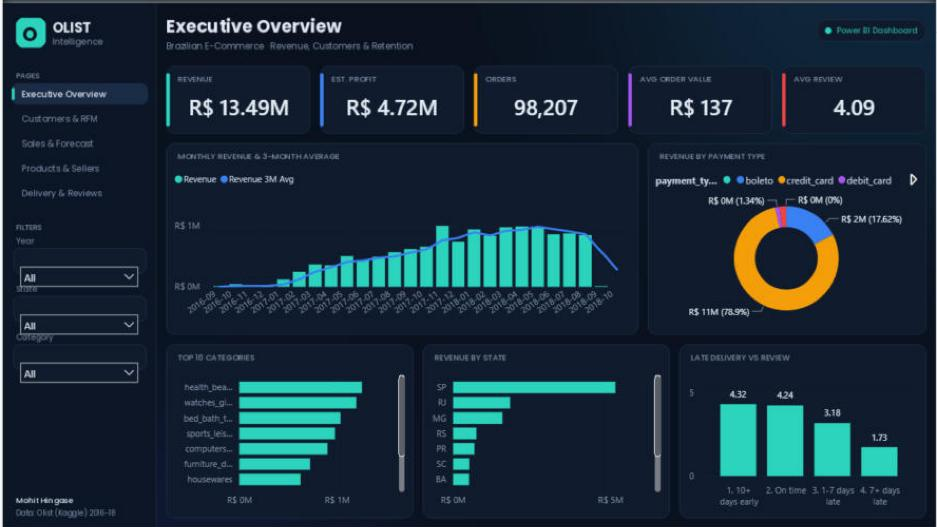

What the dashboard file says about the page in this screenshot:
{"tool":"powerbi","page":{"name":"Executive Overview","canvas":[1280,720],"ordinal":0},"visuals":[{"type":"card","fields":{"Values":["fact_orders.Revenue"]},"box":[234,112,179,62],"z":1000},{"type":"card","fields":{"Values":["fact_orders.Est Gross Profit"]},"box":[445,112,179,62],"z":1000},{"type":"card","fields":{"Values":["fact_orders.Orders"]},"box":[656,112,179,62],"z":1000},{"type":"card","fields":{"Values":["fact_orders.AOV"]},"box":[868,112,179,62],"z":1000},{"type":"card","fields":{"Values":["fact_orders.Avg Review"]},"box":[1079,112,179,62],"z":1000},{"type":"lineClusteredColumnComboChart","fields":{"Category":["dim_date.year_month"],"Y":["fact_orders.Revenue"],"Y2":["fact_orders.Revenue 3M Avg"]},"box":[230,222,635,226],"z":1000},{"type":"donutChart","fields":{"Category":["fact_orders.payment_type"],"Y":["fact_orders.Revenue"]},"box":[891,222,369,226],"z":1000},{"type":"barChart","fields":{"Category":["dim_product.category"],"Y":["fact_order_items.Top10 Category Revenue"]},"box":[230,498,326,202],"z":1000},{"type":"barChart","fields":{"Category":["fact_orders.customer_state"],"Y":["fact_orders.Top10 State Revenue"]},"box":[582,498,326,202],"z":1000},{"type":"columnChart","fields":{"Category":["fact_orders.Delivery Bucket"],"Y":["fact_orders.Bucket Avg Review"]},"box":[934,498,326,202],"z":1000},{"type":"slicer","fields":{"Values":["dim_date.year"]},"box":[14,351,182,40],"z":3000},{"type":"slicer","fields":{"Values":["dim_customer.state"]},"box":[14,417,182,40],"z":3000},{"type":"slicer","fields":{"Values":["dim_product.category"]},"box":[14,483,182,40],"z":3000},{"type":"actionButton","box":[12,144,186,28],"z":4001},{"type":"actionButton","box":[12,178,186,28],"z":4002},{"type":"actionButton","box":[12,212,186,28],"z":4003},{"type":"actionButton","box":[12,246,186,28],"z":4004}]}

Visuals, with their boxes on the page's 1280x720 design canvas (x1, y1, x2, y2). These are canvas units, not pixel positions in the 937x527 screenshot, which may show the page scaled, cropped or inside an application window:
card - fact_orders.Revenue: l=234, t=112, r=413, b=174
card - fact_orders.Est Gross Profit: l=445, t=112, r=624, b=174
card - fact_orders.Orders: l=656, t=112, r=835, b=174
card - fact_orders.AOV: l=868, t=112, r=1047, b=174
card - fact_orders.Avg Review: l=1079, t=112, r=1258, b=174
lineClusteredColumnComboChart - dim_date.year_month x fact_orders.Revenue: l=230, t=222, r=865, b=448
donutChart - fact_orders.payment_type x fact_orders.Revenue: l=891, t=222, r=1260, b=448
barChart - dim_product.category x fact_order_items.Top10 Category Revenue: l=230, t=498, r=556, b=700
barChart - fact_orders.customer_state x fact_orders.Top10 State Revenue: l=582, t=498, r=908, b=700
columnChart - fact_orders.Delivery Bucket x fact_orders.Bucket Avg Review: l=934, t=498, r=1260, b=700
slicer - dim_date.year: l=14, t=351, r=196, b=391
slicer - dim_customer.state: l=14, t=417, r=196, b=457
slicer - dim_product.category: l=14, t=483, r=196, b=523
actionButton: l=12, t=144, r=198, b=172
actionButton: l=12, t=178, r=198, b=206
actionButton: l=12, t=212, r=198, b=240
actionButton: l=12, t=246, r=198, b=274
